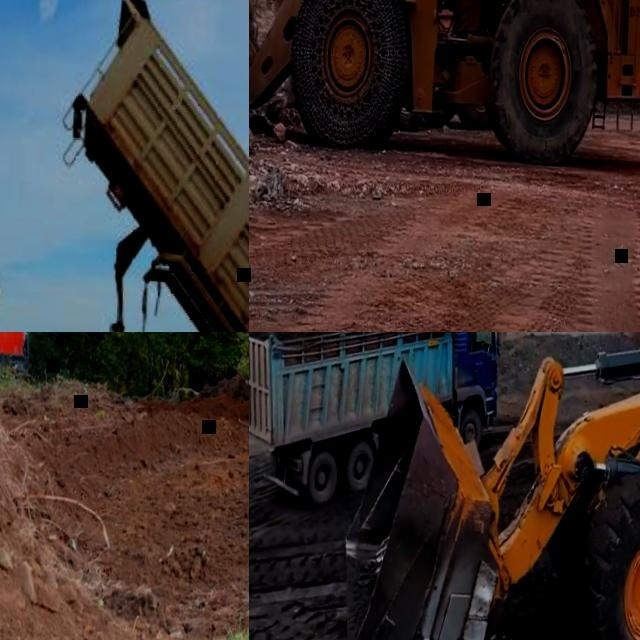machinery: (325, 332, 640, 640), (0, 0, 249, 332), (249, 0, 640, 167), (249, 332, 503, 516)
